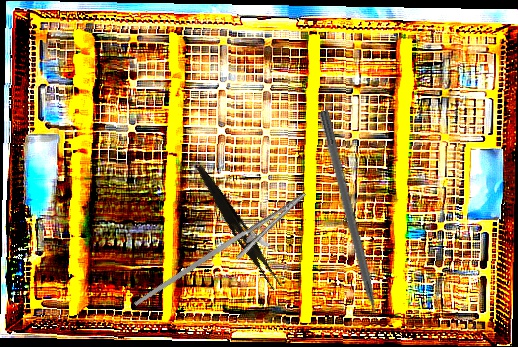Dressing Forceps: (189, 163, 287, 292)
Needle Holder: (132, 172, 318, 338)
Pusher: (316, 109, 386, 340)
